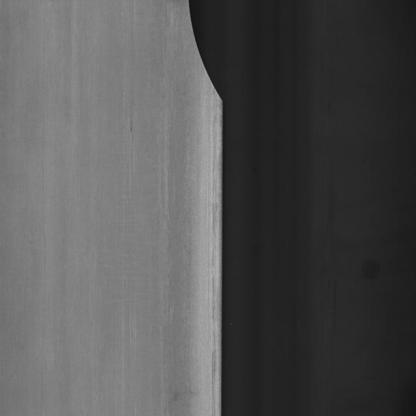crescent_gap: (180, 0, 233, 106)
